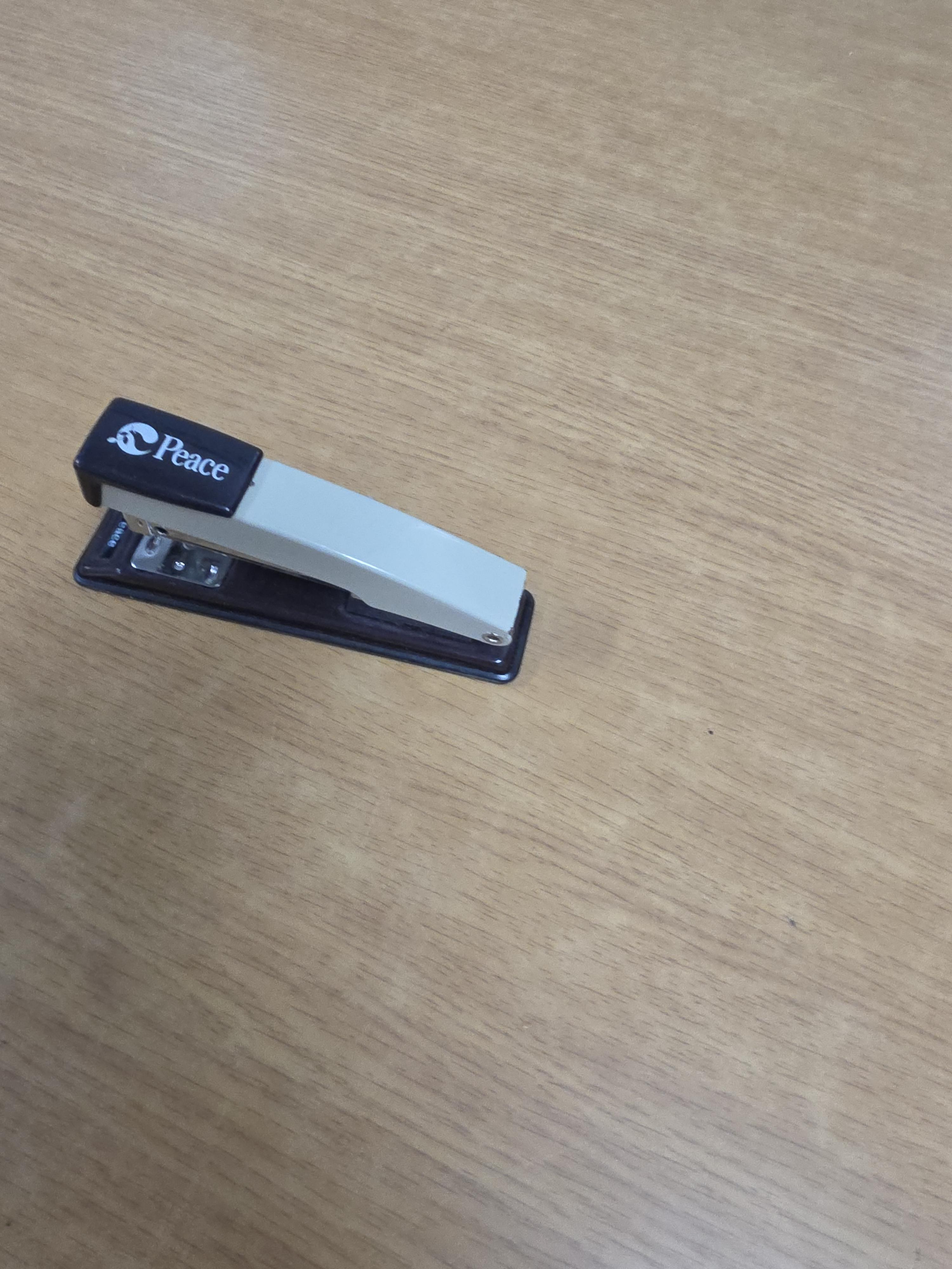stapler: (71, 397, 536, 684)
